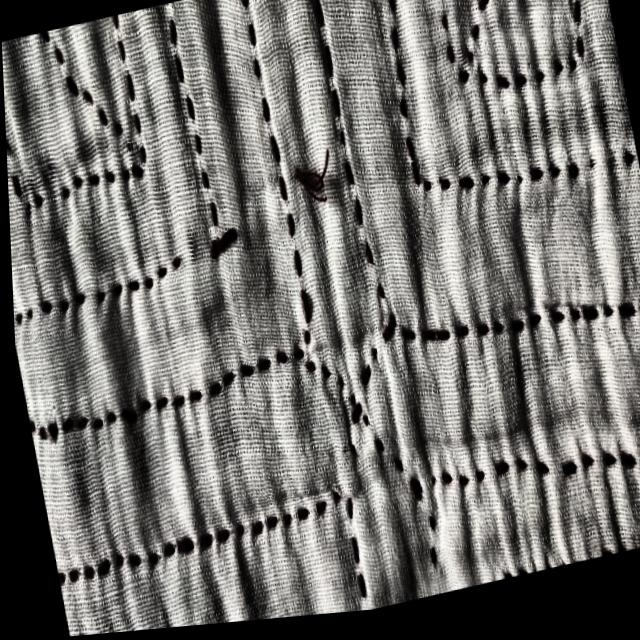Stitch: (287, 148, 341, 215), (201, 222, 246, 268)
